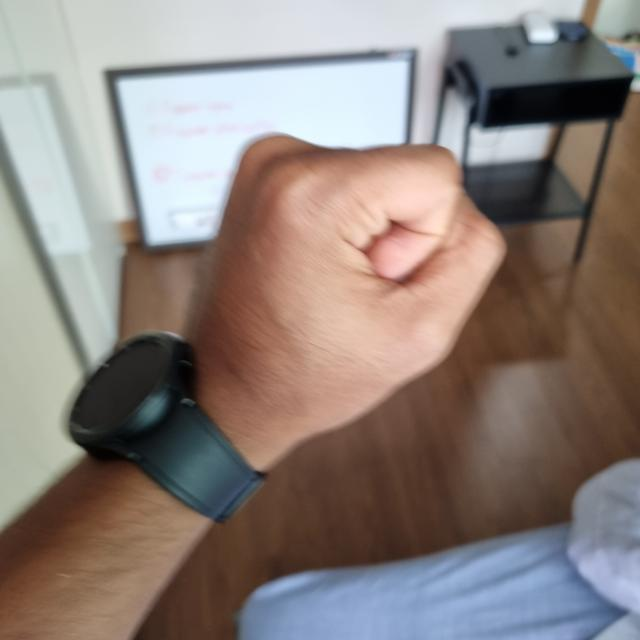Rock: (193, 132, 500, 461)
